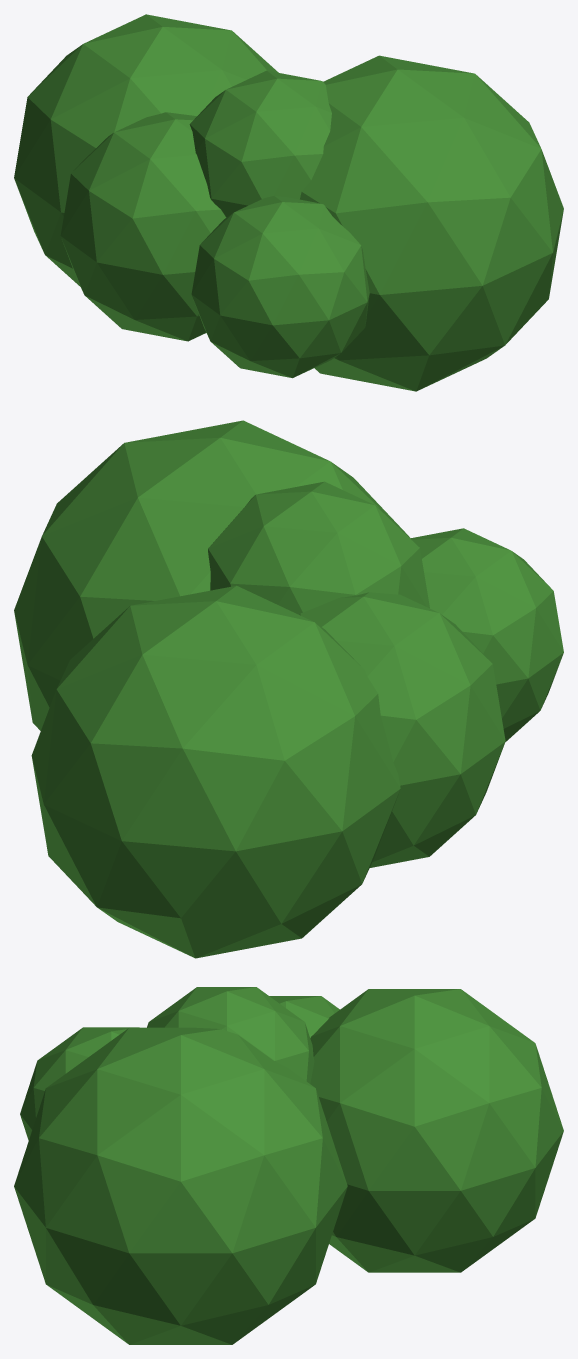
Rendered from FlappyFoliage.fbx.
The picture shows the model from 3 angles, top to bottom: view 1: azimuth 30°, elevation 25°; view 2: azimuth 150°, elevation 25°; view 3: azimuth 270°, elevation 25°; orthographic projection. The views are drawn at different scales.
Parts seen in each view (by area): view 1: Icosphere; view 2: Icosphere; view 3: Icosphere.
Part boxes in pixels (bbox=[...]): Icosphere: bbox=[14, 14, 563, 391]; Icosphere: bbox=[14, 420, 563, 958]; Icosphere: bbox=[14, 987, 563, 1344].
Size of the model in its own units: 1961 by 1424 by 2347.
